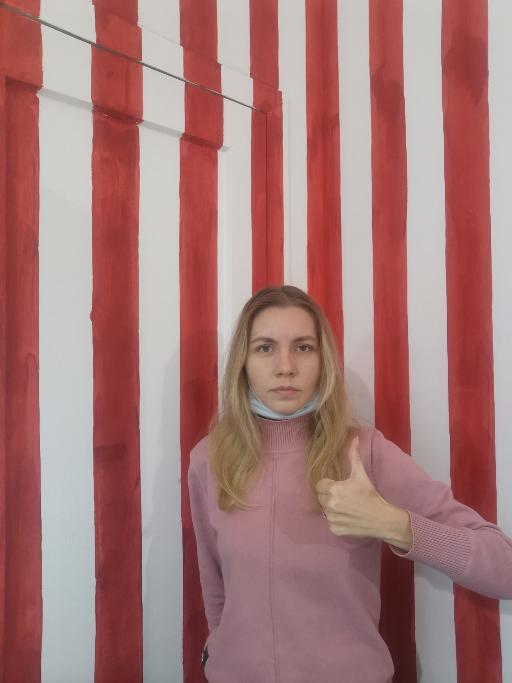like: (313, 434, 386, 540)
